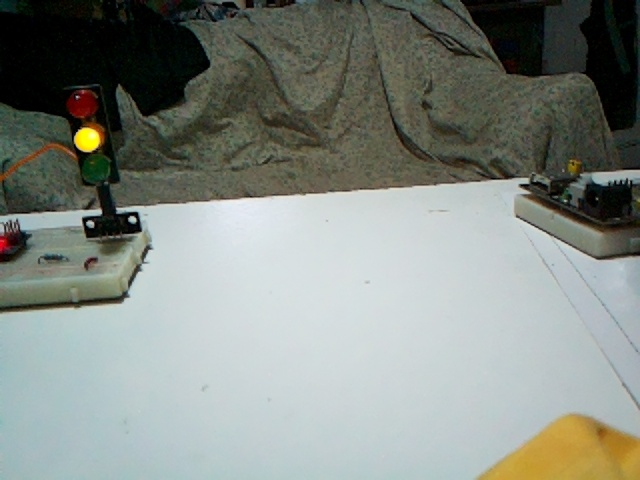traffic_light_yellow: (63, 83, 120, 186)
